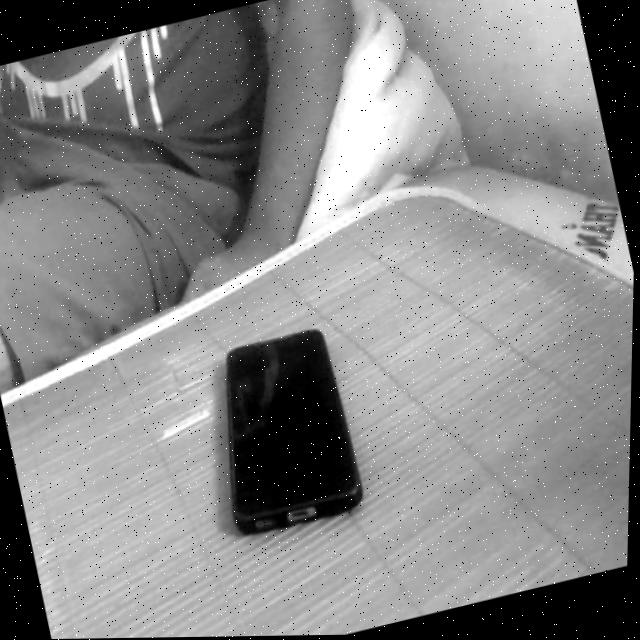phone: (175, 297, 393, 569)
